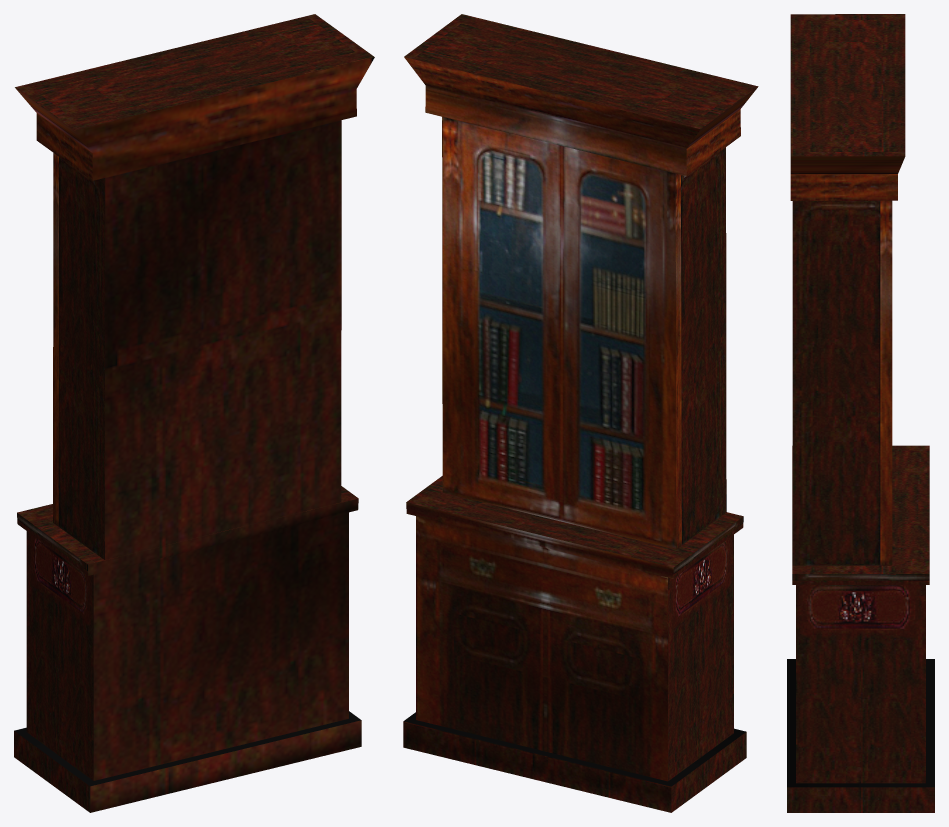
The model's file is bookcase.fbx.
3 renders of one model, left to right at view 1: azimuth 30°, elevation 25°; view 2: azimuth 150°, elevation 25°; view 3: azimuth 270°, elevation 25°, orthographic. The views are drawn at different scales.
Visible parts, largest first — view 1: U3DMesh; view 2: U3DMesh; view 3: U3DMesh.
Boxes of the visible parts, bbox=[...] form: U3DMesh: bbox=[14, 14, 374, 812]; U3DMesh: bbox=[403, 14, 758, 812]; U3DMesh: bbox=[787, 14, 934, 812].
Size of the model in its own units: 11.41 by 24.78 by 5.
